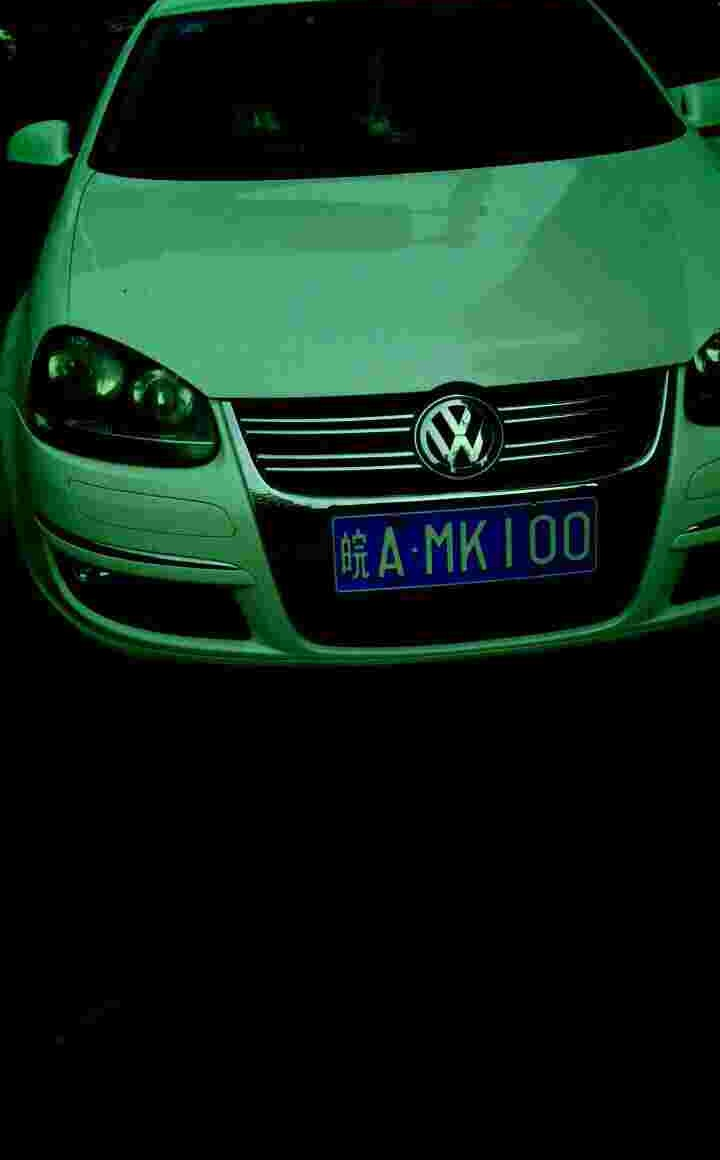license_plate: (328, 502, 596, 605)
